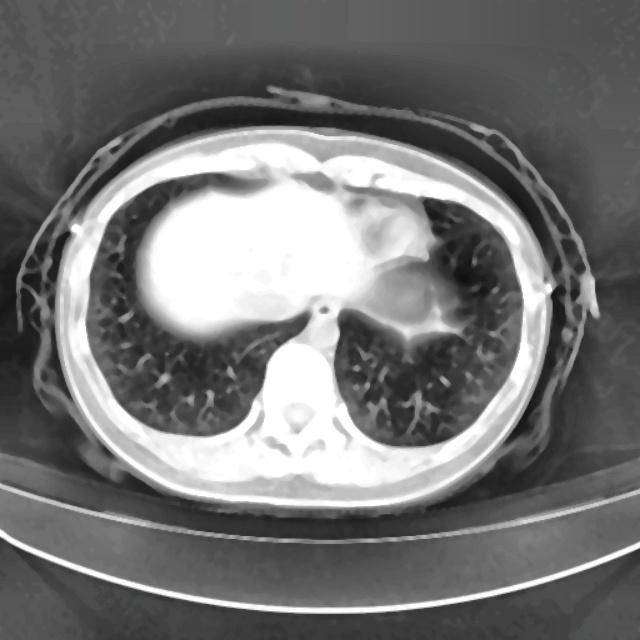covid: (21, 90, 598, 519)
